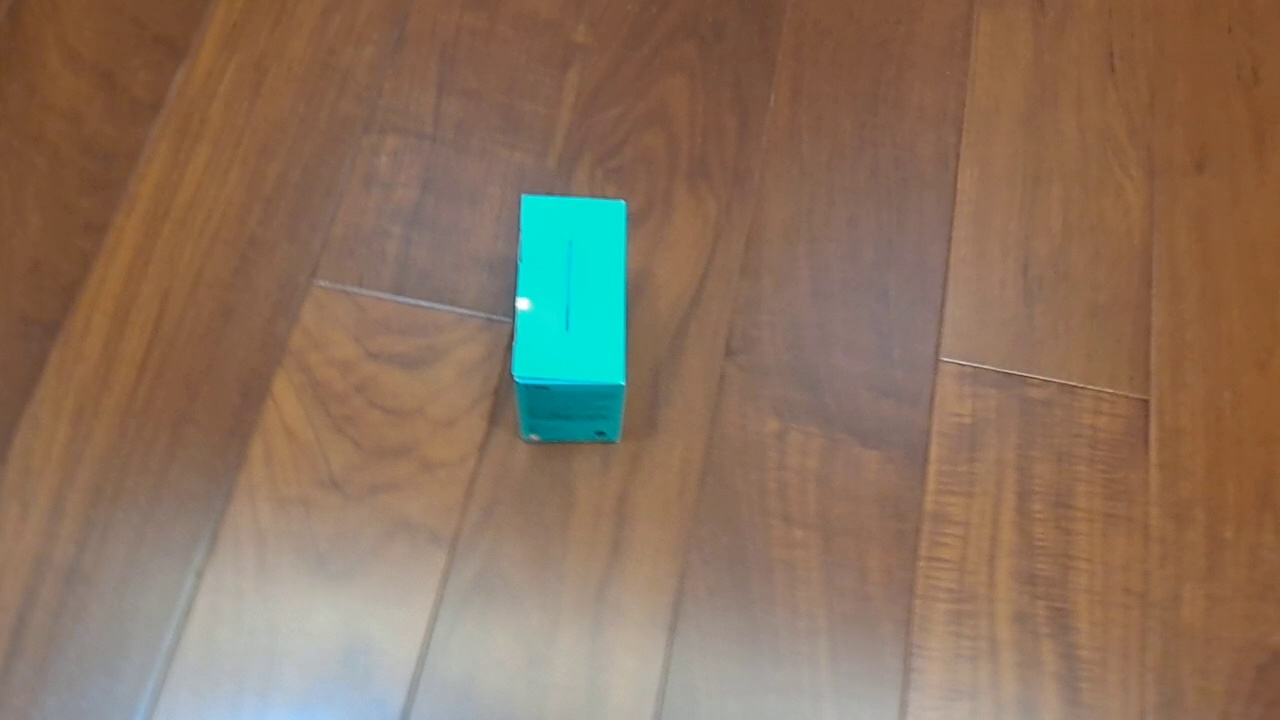webcam: (510, 193, 629, 444)
